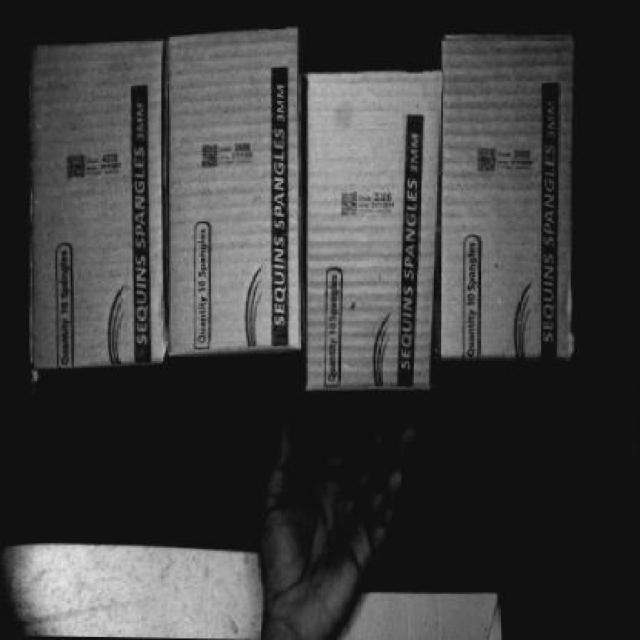cardboxes: (159, 29, 310, 358), (440, 26, 580, 354), (30, 35, 167, 357), (304, 77, 442, 386)
